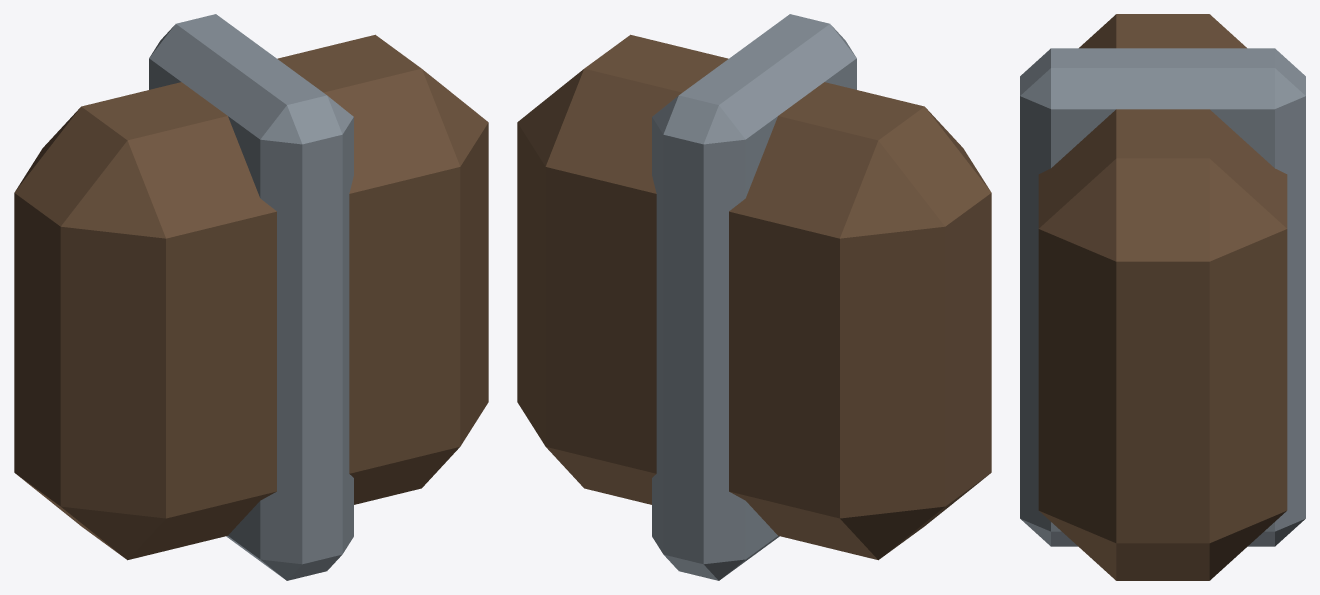
Rendered from eqp_pauldron_embervale.glb.
The picture shows the model from 3 angles, left to right: view 1: azimuth 30°, elevation 25°; view 2: azimuth 150°, elevation 25°; view 3: azimuth 270°, elevation 25°; orthographic projection.
Visible parts, largest first — view 1: PauldronPlate, PauldronRidge; view 2: PauldronPlate, PauldronRidge; view 3: PauldronPlate, PauldronRidge.
Boxes of the visible parts, x1,y1,x2,y2 form: PauldronPlate: [14, 34, 488, 560]; PauldronRidge: [149, 14, 353, 580]; PauldronPlate: [517, 34, 991, 560]; PauldronRidge: [652, 14, 856, 580]; PauldronPlate: [1038, 14, 1287, 580]; PauldronRidge: [1020, 48, 1305, 546].
Bounding box in the file's own units: 0.1248 × 0.1326 × 0.0718.
